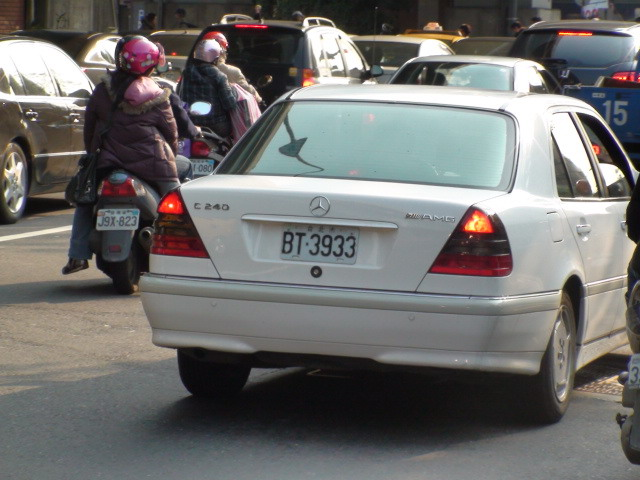plate: (278, 222, 361, 268), (93, 204, 141, 235)
